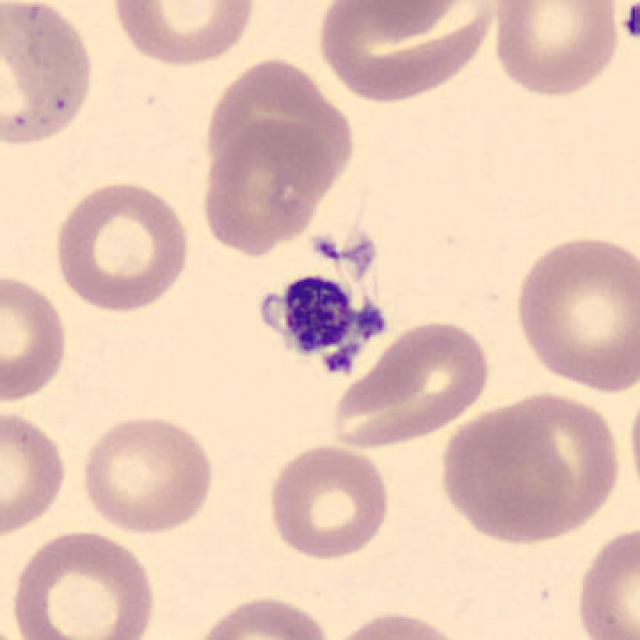Platelets: (240, 264, 405, 390), (618, 0, 640, 44)
RBC: (436, 389, 626, 546), (325, 312, 498, 451), (508, 229, 638, 397), (199, 55, 356, 194), (50, 176, 194, 316), (197, 113, 336, 257), (313, 0, 499, 106), (76, 411, 218, 538), (7, 525, 160, 640), (263, 439, 395, 562), (0, 0, 100, 152), (487, 0, 624, 100), (106, 0, 260, 69), (0, 268, 73, 404), (0, 404, 71, 541), (572, 520, 638, 640), (188, 592, 334, 640), (328, 0, 485, 42), (322, 608, 473, 640), (626, 374, 640, 524)
